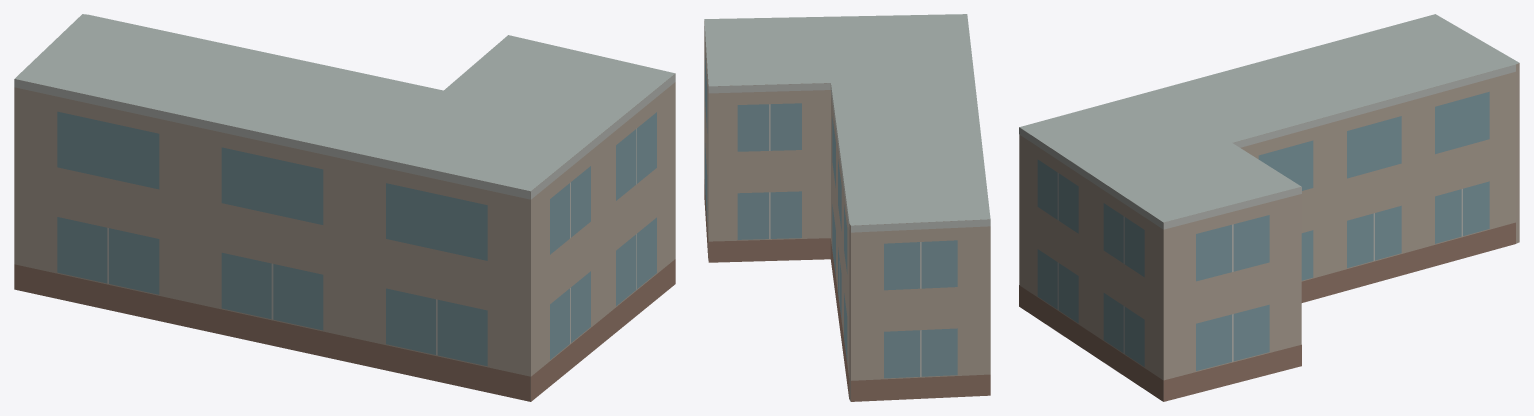
Rendered from survey-upis-32904380.glb.
The picture shows the model from 3 angles, left to right: view 1: azimuth 30°, elevation 25°; view 2: azimuth 150°, elevation 25°; view 3: azimuth 270°, elevation 25°; orthographic projection. The views are drawn at different scales.
Parts seen in each view (by area): view 1: survey-upis-32904380.tmp; view 2: survey-upis-32904380.tmp; view 3: survey-upis-32904380.tmp.
Boxes of the visible parts, box(x1,y1,x2,y2) form: survey-upis-32904380.tmp: box(14, 14, 675, 401); survey-upis-32904380.tmp: box(704, 14, 990, 401); survey-upis-32904380.tmp: box(1019, 14, 1519, 401).
Bounding box in the file's own units: 15.21 × 6.1 × 15.43.
